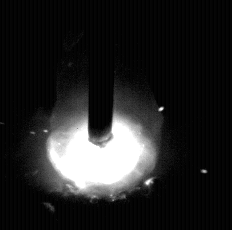arame: (89, 0, 114, 147)
poca: (47, 0, 160, 230)
